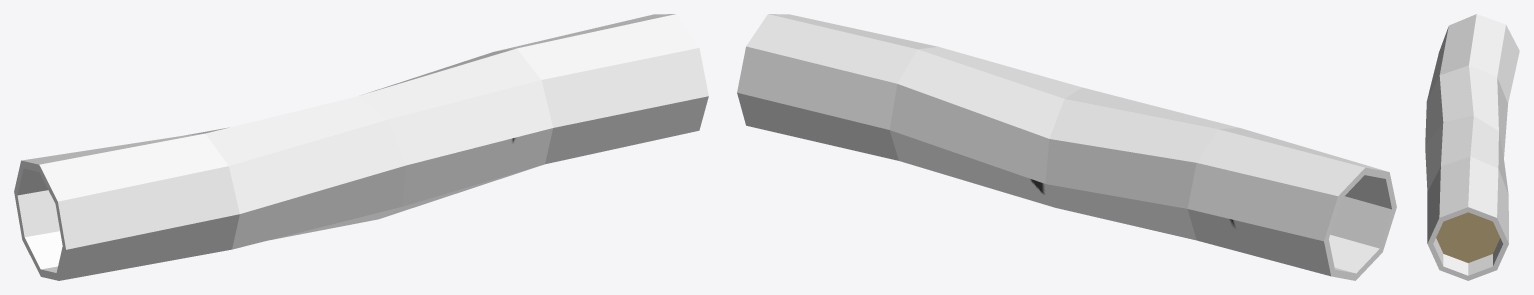
The model's file is Birch_Log_Snow_05.fbx.
3 renders of one model, left to right at view 1: azimuth 30°, elevation 25°; view 2: azimuth 150°, elevation 25°; view 3: azimuth 270°, elevation 25°, orthographic. The views are drawn at different scales.
Visible parts, largest first — view 1: Birch_Log_Snow_05; view 2: Birch_Log_Snow_05; view 3: Birch_Log_Snow_05.
Part boxes in pixels (<box>): Birch_Log_Snow_05: <box>14,14,708,280</box>; Birch_Log_Snow_05: <box>737,14,1396,280</box>; Birch_Log_Snow_05: <box>1425,14,1519,280</box>.
Bounding box in the file's own units: 180 × 34.04 × 36.86.
